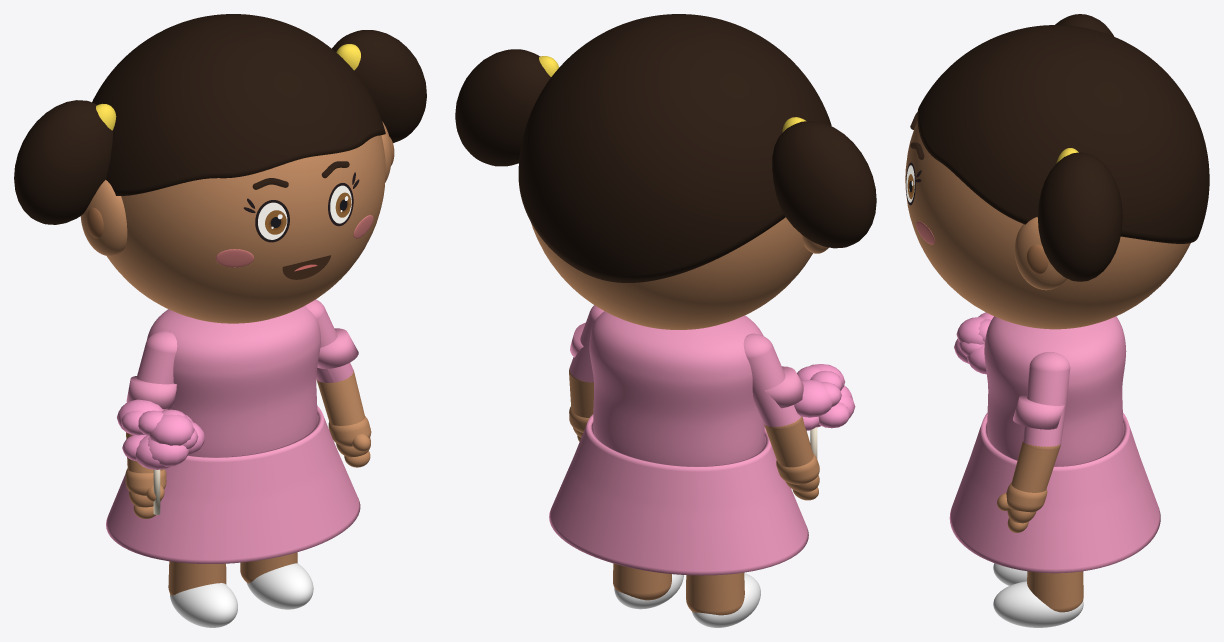
Rendered from zusje_pestkop.glb.
The picture shows the model from 3 angles, left to right: view 1: azimuth 30°, elevation 25°; view 2: azimuth 150°, elevation 25°; view 3: azimuth 270°, elevation 25°; orthographic projection. The views are drawn at different scales.
Visible parts, largest first — view 1: zusje_pestkop_haar, zusje_pestkop_hoofd, zusje_pestkop_rok, zusje_pestkop_romp, zusje_pestkop_staartje_R, zusje_pestkop_staartje_L, zusje_pestkop_schoen_R, zusje_pestkop_schoen_L, zusje_pestkop_oor_R, zusje_pestkop_onderarm_L, zusje_pestkop_bovenarm_R, zusje_pestkop_been_R (+10 smaller); view 2: zusje_pestkop_haar, zusje_pestkop_rok, zusje_pestkop_romp, zusje_pestkop_hoofd, zusje_pestkop_staartje_R, zusje_pestkop_staartje_L, zusje_pestkop_bovenarm_R, zusje_pestkop_been_R, zusje_pestkop_been_L, zusje_pestkop_onderarm_R, zusje_pestkop_schoen_R, zusje_pestkop_suikerspin3 (+5 smaller); view 3: zusje_pestkop_haar, zusje_pestkop_hoofd, zusje_pestkop_rok, zusje_pestkop_romp, zusje_pestkop_staartje_L, zusje_pestkop_bovenarm_L, zusje_pestkop_schoen_L, zusje_pestkop_been_L, zusje_pestkop_onderarm_L, zusje_pestkop_oor_L, zusje_pestkop_mouwzoom_L, zusje_pestkop_manchet_L (+4 smaller).
Part boxes in pixels (<box>): zusje_pestkop_haar: <box>92,14,385,195</box>; zusje_pestkop_hoofd: <box>107,135,385,323</box>; zusje_pestkop_rok: <box>106,406,360,563</box>; zusje_pestkop_romp: <box>147,306,320,457</box>; zusje_pestkop_staartje_R: <box>14,100,112,224</box>; zusje_pestkop_staartje_L: <box>332,30,426,142</box>; zusje_pestkop_schoen_R: <box>170,583,237,627</box>; zusje_pestkop_schoen_L: <box>247,563,313,609</box>; zusje_pestkop_oor_R: <box>80,180,127,256</box>; zusje_pestkop_onderarm_L: <box>316,373,364,425</box>; zusje_pestkop_bovenarm_R: <box>136,331,177,410</box>; zusje_pestkop_been_R: <box>168,561,226,595</box>; zusje_pestkop_haar: <box>518,14,831,282</box>; zusje_pestkop_rok: <box>549,414,808,575</box>; zusje_pestkop_romp: <box>589,311,764,466</box>; zusje_pestkop_hoofd: <box>531,217,812,329</box>; zusje_pestkop_staartje_R: <box>772,121,876,248</box>; zusje_pestkop_staartje_L: <box>455,49,551,166</box>; zusje_pestkop_bovenarm_R: <box>743,333,801,429</box>; zusje_pestkop_been_R: <box>686,572,744,615</box>; zusje_pestkop_been_L: <box>613,563,671,600</box>; zusje_pestkop_onderarm_R: <box>764,417,813,467</box>; zusje_pestkop_schoen_R: <box>692,573,760,627</box>; zusje_pestkop_suikerspin3: <box>794,380,832,417</box>; zusje_pestkop_haar: <box>917,25,1209,243</box>; zusje_pestkop_hoofd: <box>905,121,1190,329</box>; zusje_pestkop_rok: <box>949,412,1160,573</box>; zusje_pestkop_romp: <box>984,316,1126,466</box>; zusje_pestkop_staartje_L: <box>1037,152,1122,281</box>; zusje_pestkop_bovenarm_L: <box>1023,352,1070,450</box>; zusje_pestkop_schoen_L: <box>993,581,1083,627</box>; zusje_pestkop_been_L: <box>1027,571,1083,612</box>; zusje_pestkop_onderarm_L: <box>1011,441,1059,492</box>; zusje_pestkop_oor_L: <box>1014,217,1066,290</box>; zusje_pestkop_mouwzoom_L: <box>1013,395,1064,429</box>; zusje_pestkop_manchet_L: <box>1006,483,1047,512</box>.
Bounding box in the file's own units: 0.788 × 1.08 × 0.5237.
